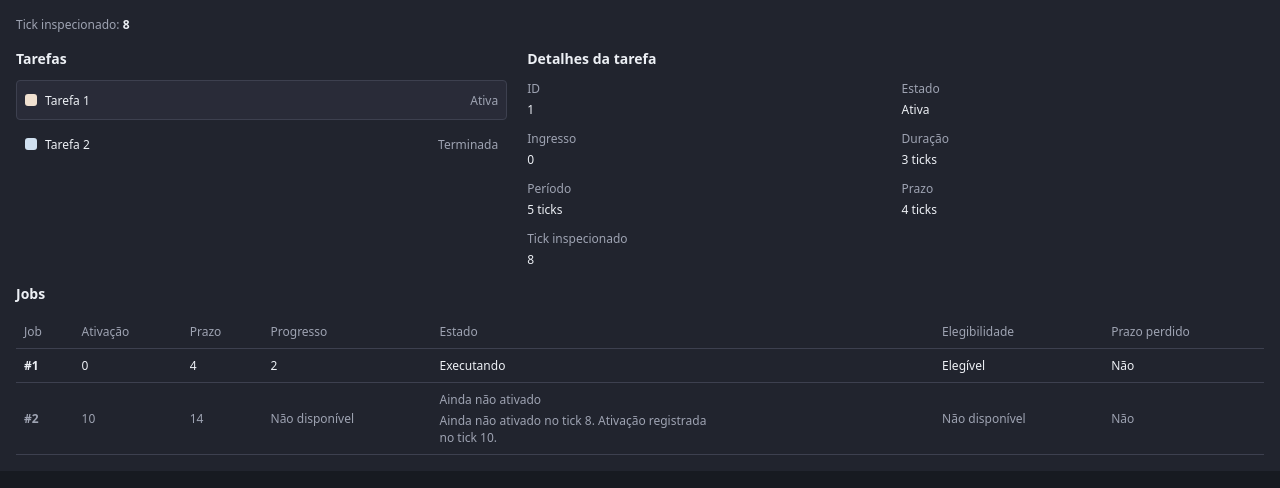
Test case: InspectionPanel › keeps task, details and jobs selection consistent
The image size is (1280, 488).
Expected: the element with class "inspection-panel__tick" shows "8", left=123, top=16, right=130, bottom=33
Expected: the text "1" is shown, left=527, top=101, right=534, bottom=118
Click the button with class "task-list__item" showing "Tarefa 2 Terminada": (67, 144) left=16, top=124, right=507, bottom=164
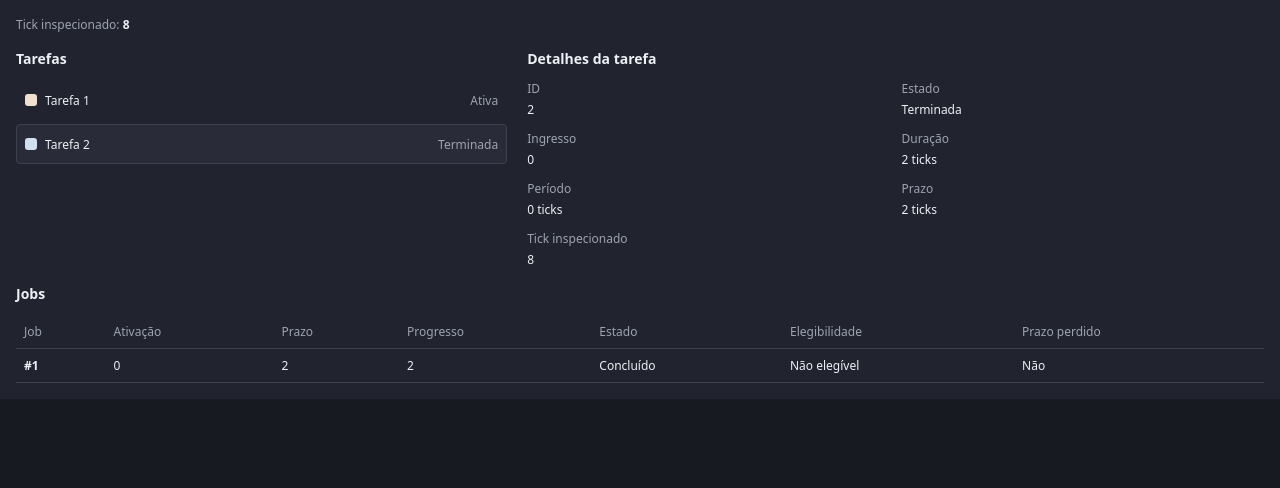
Expected: the element with class "inspection-panel__tick" shows "8", left=123, top=16, right=130, bottom=33
Expected: the text "2" below "Detalhes da tarefa" is shown, left=527, top=101, right=534, bottom=118
Expected: the row "#1 0 2 2 Concluído Não elegível Não" is shown, left=16, top=349, right=1264, bottom=382
